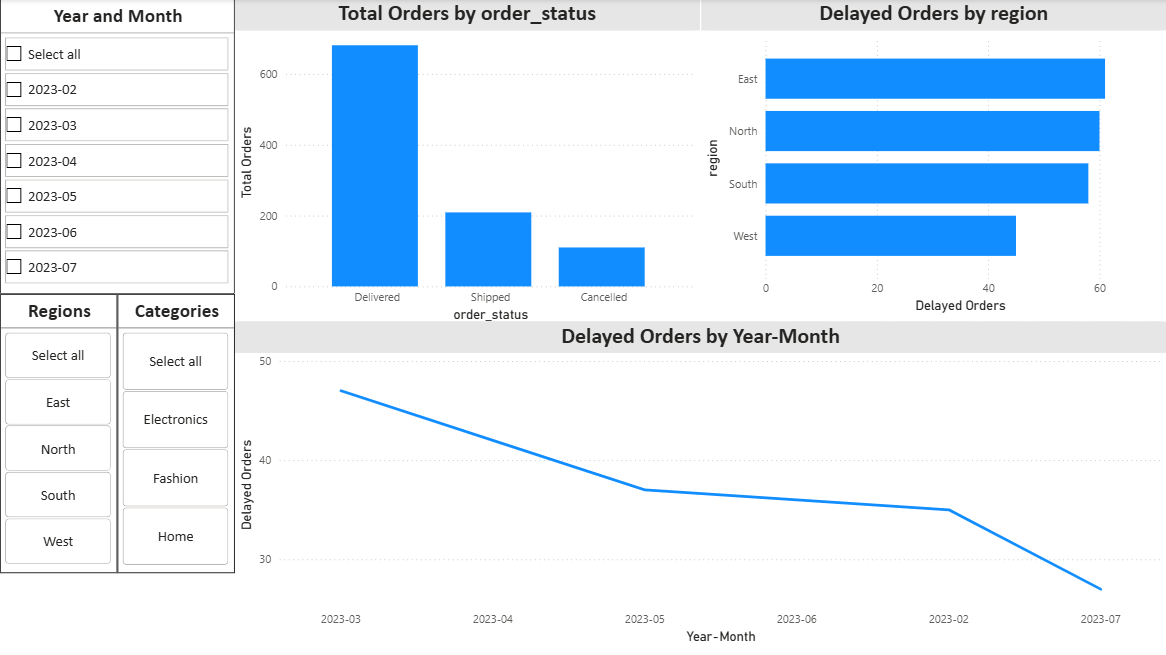

This screenshot's page, from the dashboard's own definition file:
{"tool":"powerbi","page":{"name":"Operations Overview","canvas":[1280,720],"ordinal":2},"visuals":[{"type":"columnChart","fields":{"Category":["orders.order_status"],"Y":["orders.Total Orders"]},"box":[0,133.1,529.7,359.5],"z":0},{"type":"card","fields":{"Values":["orders.Delayed Orders"]},"box":[520.1,137.2,200.3,175.6],"z":1000},{"type":"card","fields":{"Values":["orders.Delay %"]},"box":[529.7,326.6,200.3,175.6],"z":2000},{"type":"lineChart","fields":{"Category":["Date Table.Year-Month"],"Y":["orders.Delayed Orders"]},"box":[9.6,502.2,1270.7,218.2],"z":3000},{"type":"barChart","fields":{"Category":["orders.region"],"Y":["orders.Delayed Orders"]},"box":[739.6,142.7,540.7,349.9],"z":4000},{"type":"advancedSlicerVisual","fields":{"Values":["products.category"]},"box":[741,0,537.9,111.1],"z":5000},{"type":"advancedSlicerVisual","fields":{"Values":["orders.region"]},"box":[192.1,0,548.9,111.1],"z":6000},{"type":"listSlicer","fields":{"Values":["Date Table.Year-Month"]},"box":[0,0,160.5,100.2],"z":7000}]}

Visuals, with their boxes in screenshot pixels (x1, y1, x2, y2), scaled from the page's 1280x720 canvas onto the 1166x655 screenshot:
columnChart - orders.order_status x orders.Total Orders: 0:121:483:448
card - orders.Delayed Orders: 474:125:656:285
card - orders.Delay %: 483:297:665:457
lineChart - Date Table.Year-Month x orders.Delayed Orders: 9:457:1165:654
barChart - orders.region x orders.Delayed Orders: 674:130:1165:448
advancedSlicerVisual - products.category: 675:0:1165:101
advancedSlicerVisual - orders.region: 175:0:675:101
listSlicer - Date Table.Year-Month: 0:0:146:91
